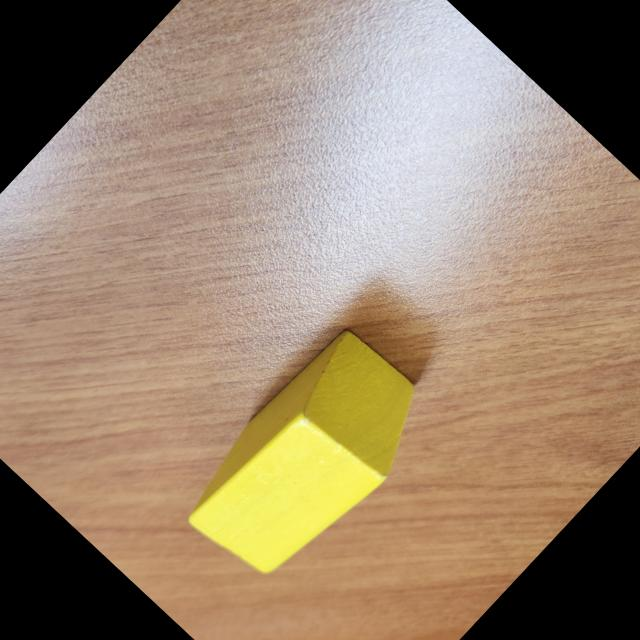yellow: (164, 313, 447, 602)
